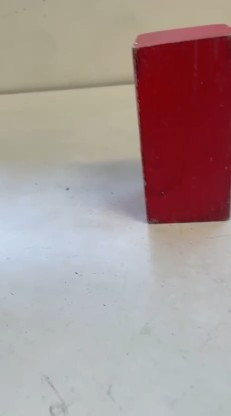red: (128, 19, 231, 222)
